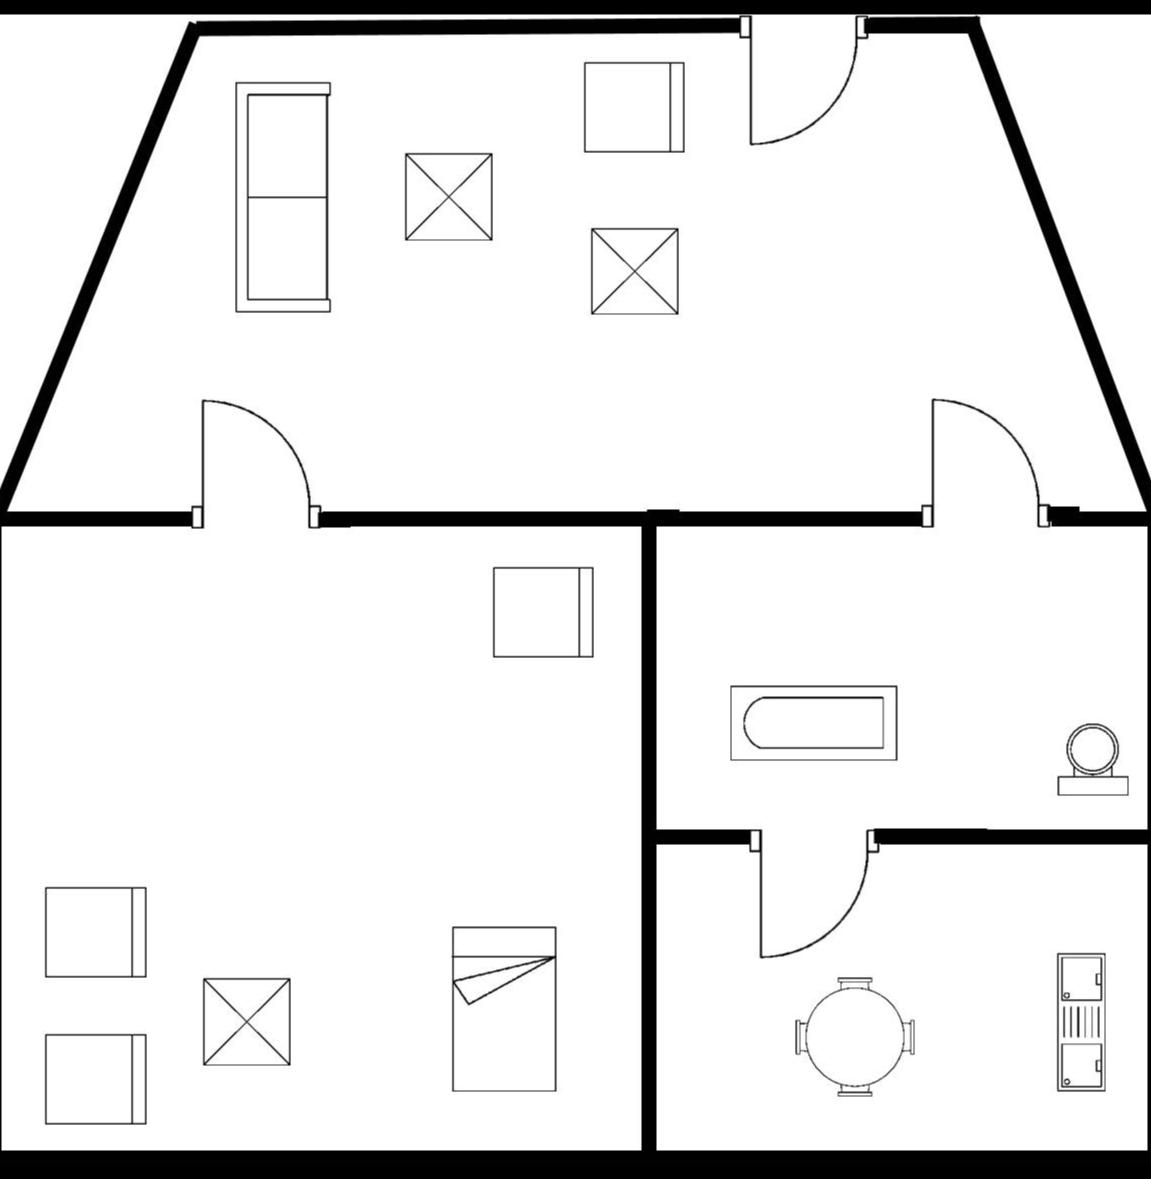sink: (1048, 942, 1115, 1104)
